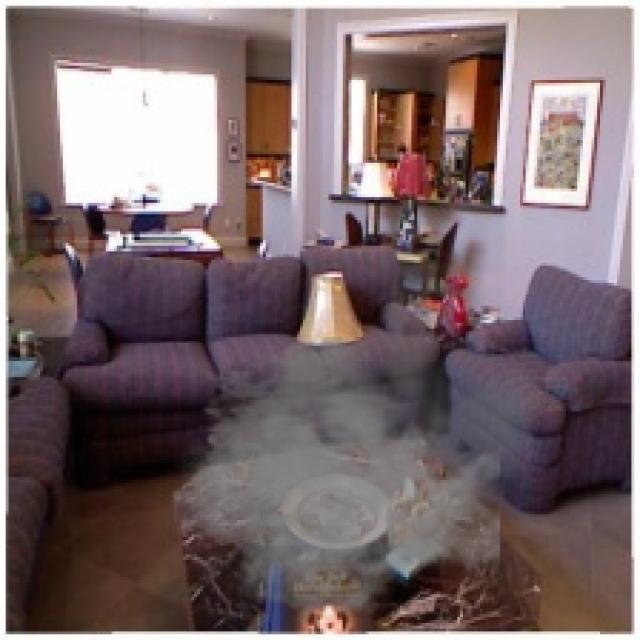Smoke: (163, 234, 546, 626)
